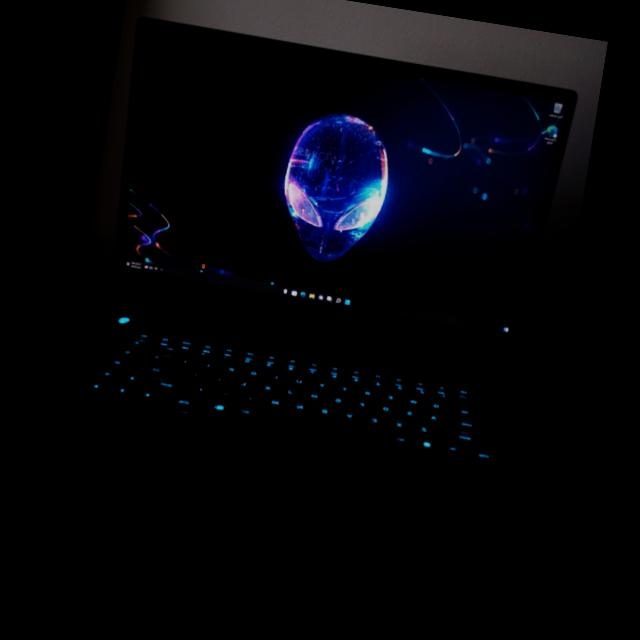laptop: (48, 19, 577, 586)
